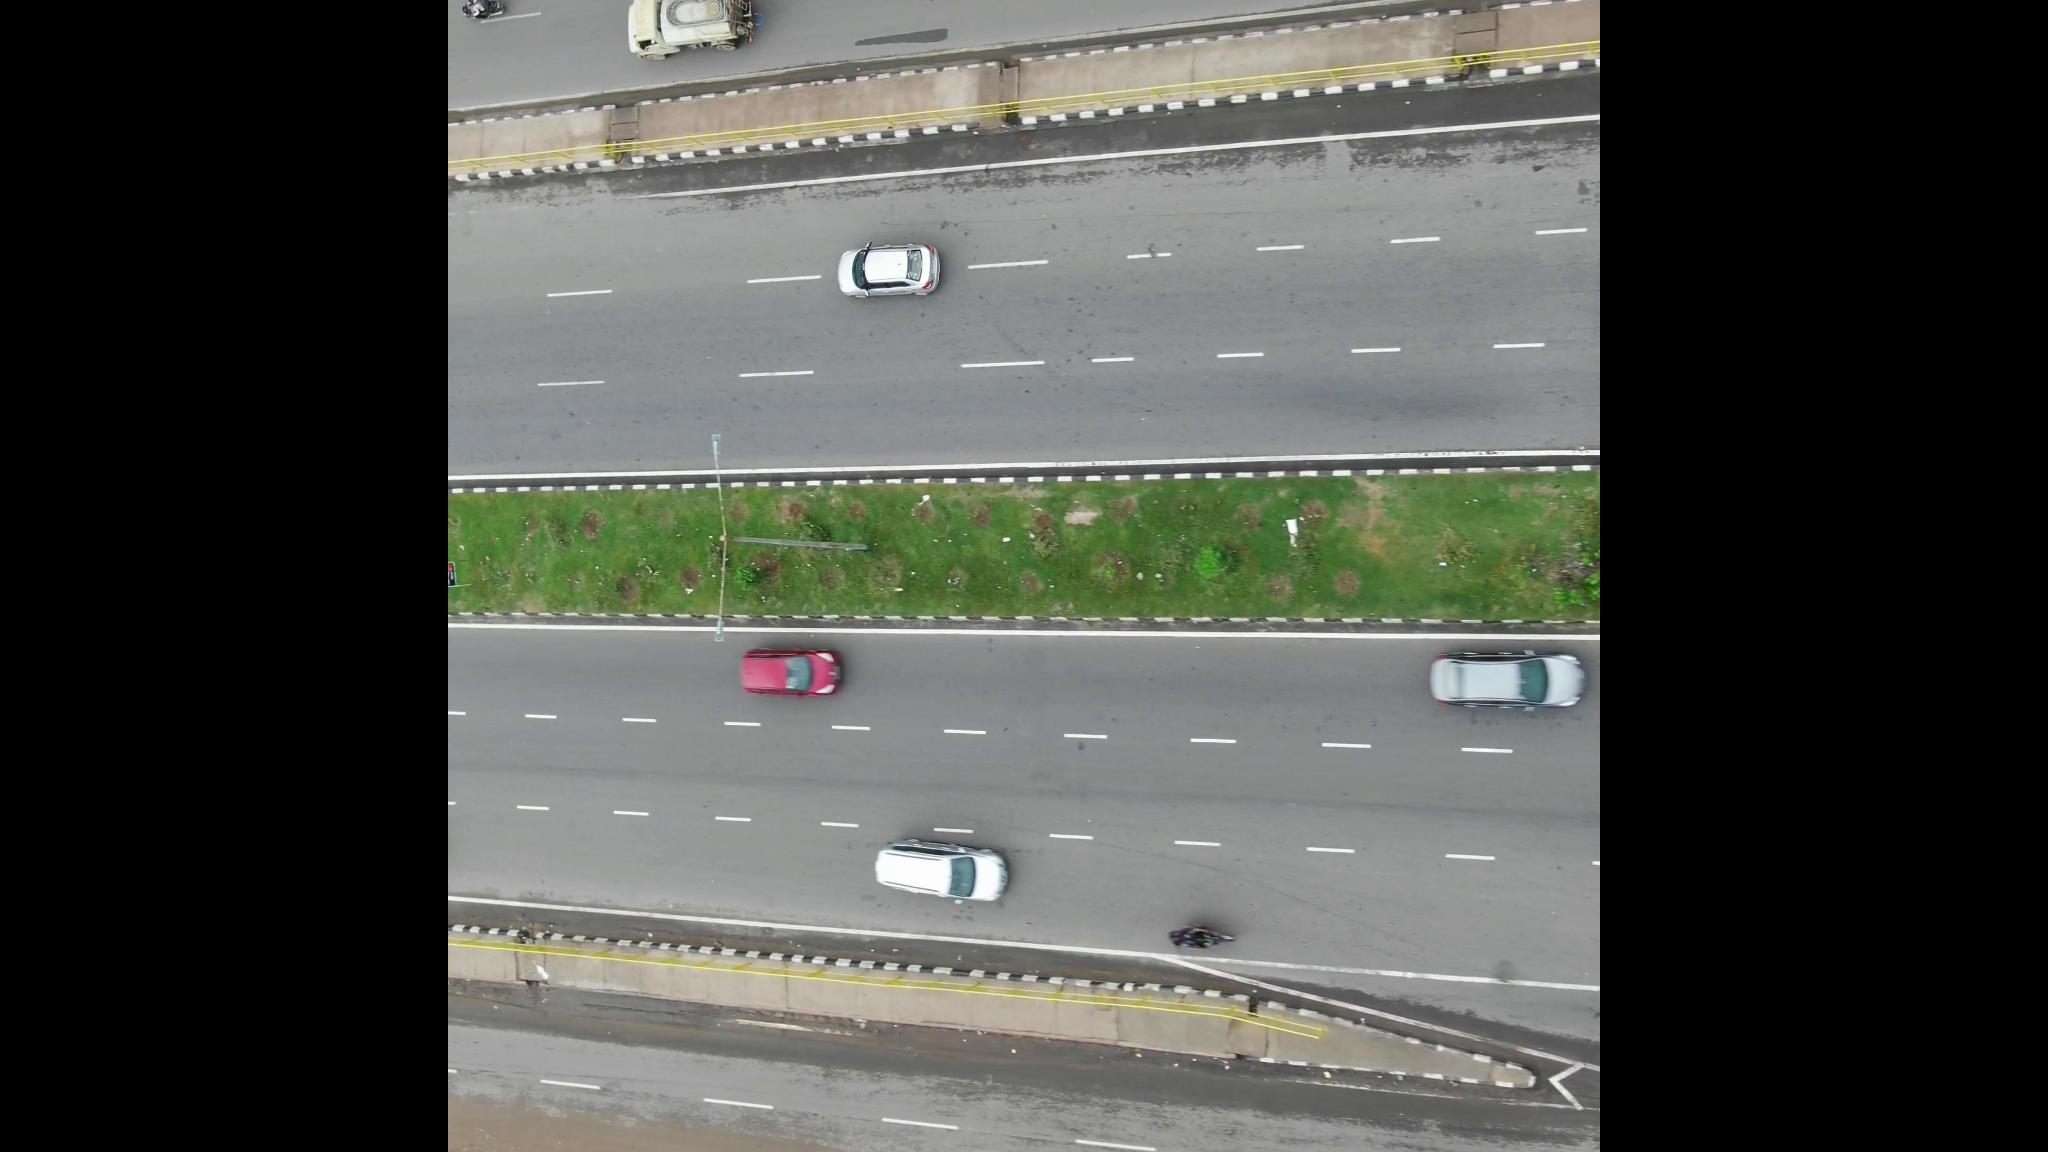Muddy_road: (459, 1096, 700, 1152), (736, 1129, 993, 1152)
